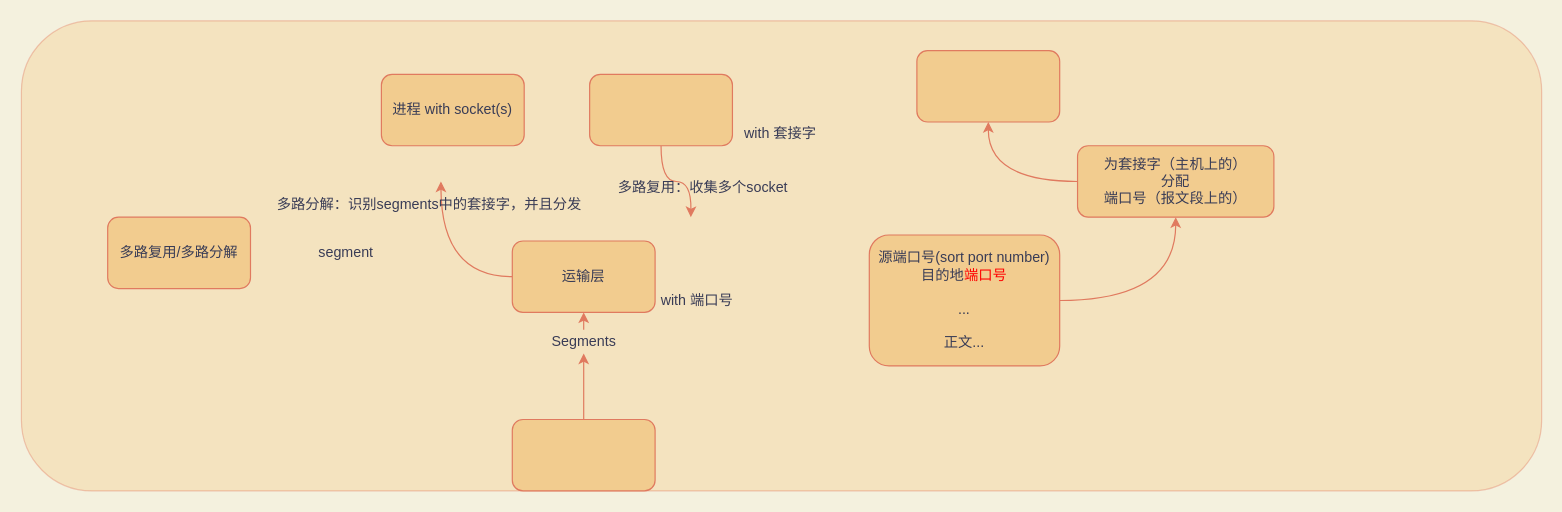
This 1562x512 diagram has some shape labels left out. The centre of each missing label's shape, as x and y in pixels:
"套接字" goes at [988,85].
"网络层" goes at [583,454].
"进程" goes at [660,109].
